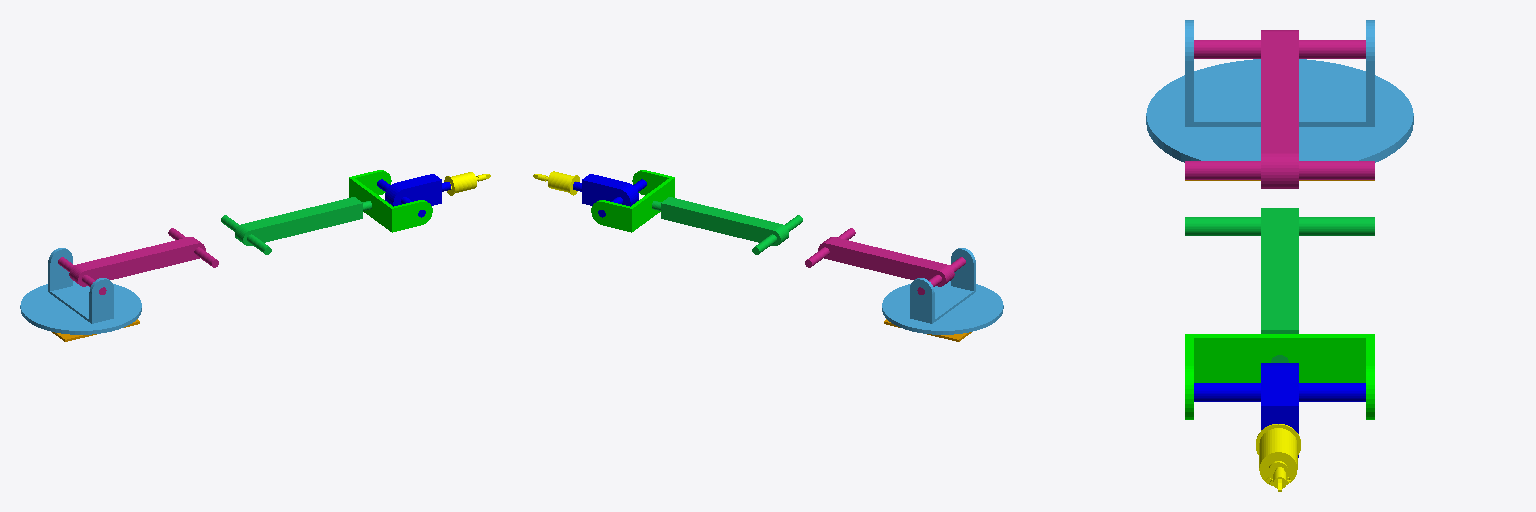
robot.urdf — Robot6GDL:
<?xml version='1.0'?>

<robot name="Robot6GDL">
    <!--Eslabones-->
        <!--Base del robot-->
         <link name="base_link">
    
          <visual>
           <geometry>
            <mesh filename = "package://robot6gdl/src/robot_description/meshes/Base.stl"/>
           </geometry>
          </visual>
          
          <collision>
           <geometry>
            <mesh filename = "package://robot6gdl/src/robot_description/meshes/Base.stl"/>
           </geometry>
          </collision>
          
         </link>

        <!--Eslabón 1-->
         <link name="link_eslabon1">
          
          <inertial>
           <mass value = "0.12303021"/>
           <inertia ixx ="0.00017790" iyy = "0.00013355" izz = "0.00028229" ixy = "0.0" ixz = "0.0" iyz = "0.0"/>
          </inertial>
      
          <visual>
           <geometry>
            <mesh filename = "package://robot6gdl/src/robot_description/meshes/Eslabon1.stl"/>
           </geometry>
          </visual>

         </link>

        <!--Eslabon 2-->
         <link name="link_eslabon2">
          <inertial>
           <mass value = "0.09777345"/>
           <inertia ixx = "0.00002161" iyy = "0.00029507" izz = "0.00027900" ixy = "0.0" ixz = "0.0" iyz = "0.0"/>
          </inertial>

           <visual>
            <geometry>
             <mesh filename = "package://robot6gdl/src/robot_description/meshes/Eslabon2.dae"/>
            </geometry>
           </visual>
        
         </link>

        <!--Union de eslabon 2 y eslabon 3-->
         <link name = "link_eslabonunion23">   

          <inertial>
           <mass value = "0.07005726"/>
           <inertia ixx = "0.00011043" iyy = "0.00013794" izz = "0.00003796" ixy = "0.0" ixz= "0.0" iyz="0.0"/> <!-- inertias are tricky to compute -->
          </inertial>

          <visual>
           <origin xyz = "0.035 0 0"/>
           <geometry>
           <mesh filename = "package://robot6gdl/src/robot_description/meshes/Union23.stl"/>
           </geometry>
          </visual>

         </link>
   
        <!--Eslabon 3-->
         <link name = "link_eslabon3">   

         <inertial>
          <mass value = "0.08754757"/>
          <inertia ixx = "0.00001331" iyy ="0.00022169" izz ="0.00021365" ixy= "0.0" ixz ="0.0" iyz="0.0"/> 
         </inertial>

         <visual>
          <geometry>  
           <mesh filename = "package://robot6gdl/src/robot_description/meshes/Eslabon3.dae"/>
          </geometry>
         </visual>

         </link>

       
        <!--Eslabon 4 Muñeca-->
         <link name = "link_eslabon4">   

         <inertial>
          <mass value = "0.08754757"/>
          <inertia ixx = "0.00001331" iyy ="0.00022169" izz ="0.00021365" ixy= "0.0" ixz ="0.0" iyz="0.0"/> 
         </inertial>

         <visual>
          <geometry>  
           <mesh filename = "package://robot6gdl/src/robot_description/meshes/Wrist4.dae"/>
          </geometry>
         </visual>

          </link>

        <!--Eslabon 5 Muñeca-->
         <link name = "link_eslabon5">   

         <inertial>
          <mass value = "0.08754757"/>
          <inertia ixx = "0.00001331" iyy ="0.00022169" izz ="0.00021365" ixy= "0.0" ixz ="0.0" iyz="0.0"/> 
         </inertial>

         <visual>
          <geometry>  
           <mesh filename = "package://robot6gdl/src/robot_description/meshes/Wrist5.dae"/>
          </geometry>
         </visual>

         </link>

        <!--Eslabon 6 Muñeca-->
         <link name = "link_eslabon6">

         <inertial>
          <mass value = "0.08754757"/>
          <inertia ixx = "0.00001331" iyy ="0.00022169" izz ="0.00021365" ixy= "0.0" ixz ="0.0" iyz="0.0"/> 
         </inertial>

         <visual>
          <geometry>  
           <mesh filename = "package://robot6gdl/src/robot_description/meshes/Wrist6.dae"/>
          </geometry>
         </visual>

         </link>  

        <!--Eslabon Herramienta-->
         <link name = "link_herramienta">

         <inertial>
          <mass value = "0.08754757"/>
          <inertia ixx = "0.00001331" iyy ="0.00022169" izz ="0.00021365" ixy= "0.0" ixz ="0.0" iyz="0.0"/> 
         </inertial>

         <visual>
          <geometry>  
           <mesh filename = "package://robot6gdl/src/robot_description/meshes/Herramienta.dae"/>
          </geometry>
         </visual>

         </link>    
       
  
  <!--Uniones del robot-->

    <!--Union 1-->
     <joint name = "J1" type = "continuous">
      <parent link = "base_link"/>
      <child link = "link_eslabon1"/>
      <origin xyz = "0 0 0.01" rpy = "0 0 0"/>
      <axis xyz ="0 0 1" />
     </joint>

    <!--Union 2-->
    <joint name = "J2" type = "continuous">
      <parent link = "link_eslabon1"/>
      <child link = "link_eslabon2"/>  
      <origin xyz ="0 0 0.043" rpy = "1.5708 0 0"/>
      <axis xyz = "0 0 1"/>
    </joint>

     <!--Union eslabon23 con el eslabon 3-->
    <joint name = "joint_eslabonunion23_eslabon3" type = 'fixed'>
      <parent link = "link_eslabon2"/>
      <child link = "link_eslabonunion23"/>
      <origin xyz = "0.150 0 0" rpy ="0 0 0"/>
      <axis xyz = "0 0 1"/>
    </joint>


 
    <!--Union 3-->
    <joint name = "J3" type = "continuous">
      <parent link = "link_eslabonunion23"/>
      <child link = "link_eslabon3"/>
      <origin xyz = "0.07 0 0" rpy = "0 0 0"/>
      <axis xyz = "0 0 1"/>
    </joint>
  
    <!--Union eslabon3 con el eslabon 4 muñeca-->
    <joint name = "J4" type = "continuous">
      <parent link = "link_eslabon3"/>
      <child link = "link_eslabon4"/>
      <origin xyz = "0.165 0 0 " rpy = "0 1.5708 0"/>
      <axis xyz = "0 0 1"/>
    </joint>

    <!--Union eslabon4 con el eslabon 5 muñeca-->
    <joint name = "J5" type = "continuous">
      <parent link = "link_eslabon4"/>
      <child link = "link_eslabon5"/>
      <origin xyz = "0 0 0.04 " rpy = "0 -1.5708 0"/>
      <axis xyz = "0 0 1"/>
    </joint>

    <!--Union eslabon5 con el eslabon 6 muñeca-->
    <joint name = "J6" type = "continuous">
      <parent link = "link_eslabon5"/>
      <child link = "link_eslabon6"/>
      <origin xyz = "0.065 0 0" rpy = "1.5708 0 1.5708 "/>
      <axis xyz = "0 0 1"/>
    </joint>

    <!--Union eslabon 6 con la herramienta-->
    <joint name = "joint_eslabon6_herramienta" type = "fixed">
      <parent link = "link_eslabon6"/>
      <child link = "link_herramienta"/>
      <origin xyz = "0 0 0.033" rpy = "0 0 0"/>
      <axis xyz = "0 0 1"/>
    </joint>

</robot>

--- What the picture shows (computed from the rendered views, not written in the file) ---
3 views of the same robot in one strip: view 1: azimuth 30°, elevation 25°; view 2: azimuth 150°, elevation 25°; view 3: azimuth 270°, elevation 25° (orthographic).
Model Robot6GDL with 9 links and 8 joints (6 continuous, 2 fixed), rooted at base_link, posed all joints at 0.
Links seen in each view (by area): view 1: link_eslabon1, link_eslabon2, link_eslabon3, link_eslabon4, link_eslabon5; view 2: link_eslabon1, link_eslabon2, link_eslabon3, link_eslabon4, link_eslabon5; view 3: link_eslabon1, link_eslabon2, link_eslabon4, link_eslabon3, link_eslabon5, link_eslabon6.
Boxes of the visible links, left/top/right/bottom form: link_eslabon1: left=20, top=248, right=141, bottom=334; link_eslabon2: left=58, top=228, right=218, bottom=294; link_eslabon3: left=221, top=197, right=371, bottom=254; link_eslabon4: left=349, top=170, right=432, bottom=232; link_eslabon5: left=377, top=174, right=450, bottom=217; link_eslabon1: left=882, top=248, right=1003, bottom=334; link_eslabon2: left=805, top=228, right=965, bottom=294; link_eslabon3: left=652, top=197, right=802, bottom=254; link_eslabon4: left=591, top=170, right=674, bottom=232; link_eslabon5: left=573, top=174, right=646, bottom=217; link_eslabon1: left=1146, top=20, right=1413, bottom=162; link_eslabon2: left=1185, top=30, right=1374, bottom=188; link_eslabon4: left=1185, top=334, right=1374, bottom=419; link_eslabon3: left=1185, top=208, right=1374, bottom=362; link_eslabon5: left=1194, top=363, right=1365, bottom=457; link_eslabon6: left=1256, top=424, right=1300, bottom=485.
Size in the robot's own frame: 0.6159 by 0.14 by 0.068 metres.
8 mesh visuals loaded from 9 distinct referenced files (2 binary STL, 6 Collada DAE); not drawn: 1 (reference not matched to a file when rendering).
